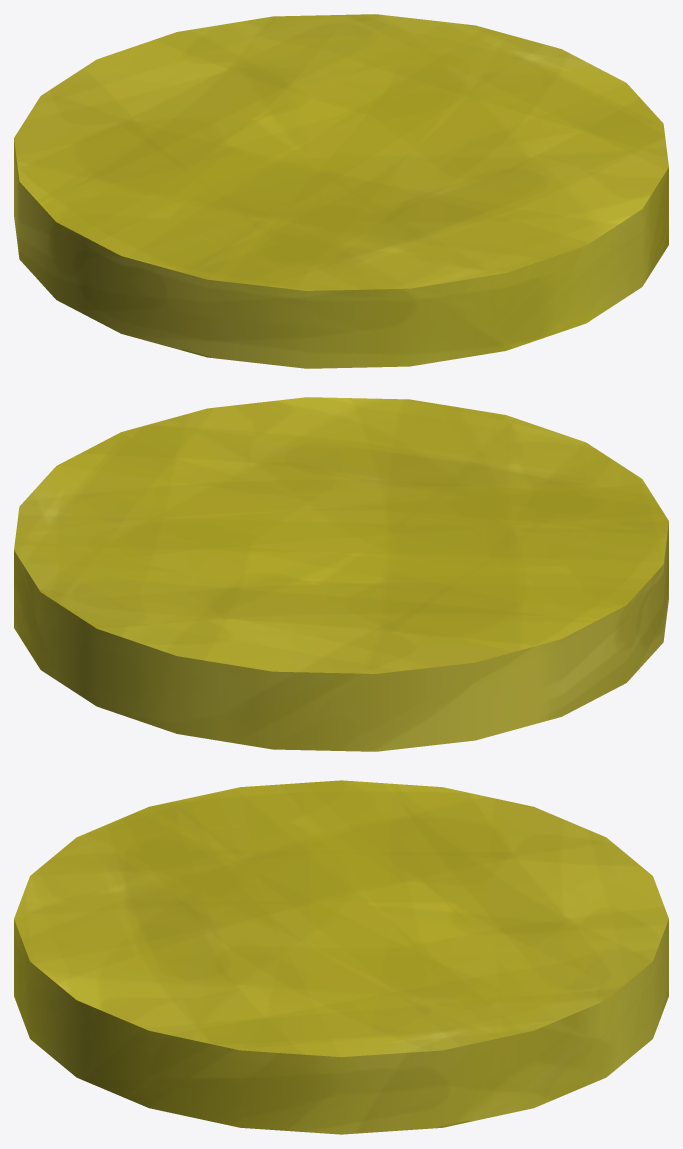
File: Cheese.glb
3 views of the same model, one above another, from view 1: azimuth 30°, elevation 25°; view 2: azimuth 150°, elevation 25°; view 3: azimuth 270°, elevation 25° (orthographic).
Parts seen in each view (by area): view 1: Cheese; view 2: Cheese; view 3: Cheese.
Boxes of the visible parts, bbox=[...] form: Cheese: bbox=[14, 14, 668, 368]; Cheese: bbox=[14, 397, 668, 751]; Cheese: bbox=[14, 780, 668, 1134].
Size of the model in its own units: 1.3 by 0.1702 by 1.3.
1 material, 1 textured.
